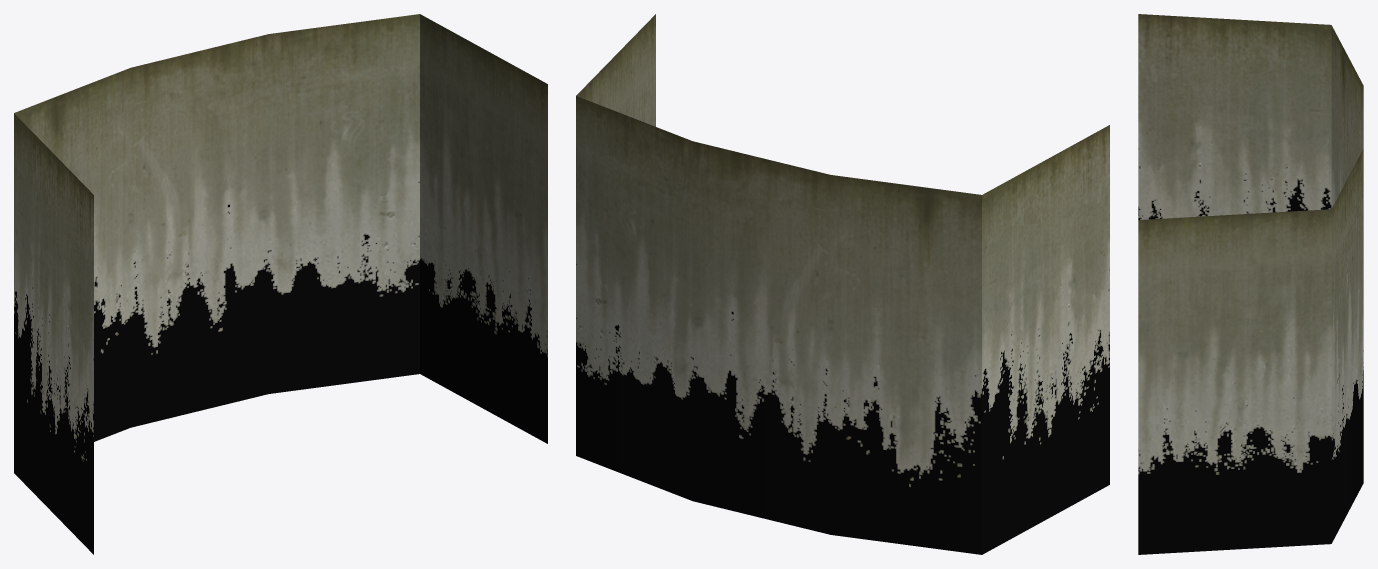
Rendered from DecalPillar.fbx.
The picture shows the model from 3 angles, left to right: view 1: azimuth 30°, elevation 25°; view 2: azimuth 150°, elevation 25°; view 3: azimuth 270°, elevation 25°; orthographic projection. The views are drawn at different scales.
Visible parts, largest first — view 1: DecalPillar; view 2: DecalPillar; view 3: DecalPillar.
Part boxes in pixels (x1=…): DecalPillar: x1=14, y1=14, x2=547, y2=554; DecalPillar: x1=576, y1=14, x2=1109, y2=554; DecalPillar: x1=1138, y1=14, x2=1363, y2=554.
Bounding box in the file's own units: 0.7577 × 0.5741 × 0.3501.
